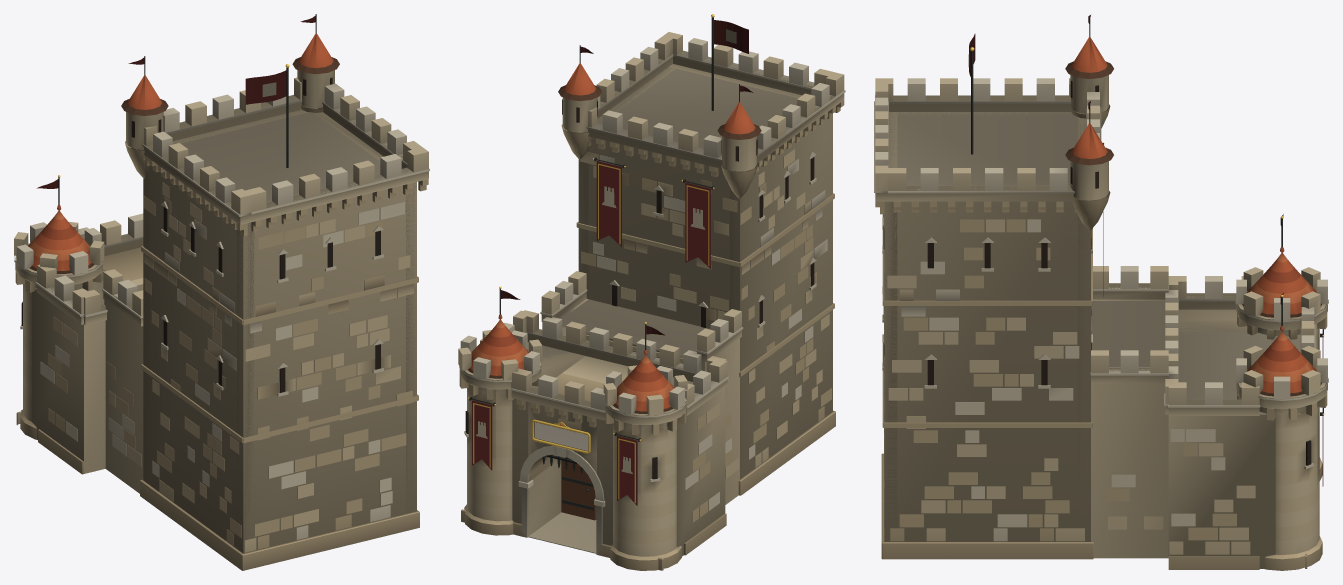
The model's file is pav_fort.glb.
The picture shows the model from 3 angles, left to right: view 1: azimuth 30°, elevation 25°; view 2: azimuth 150°, elevation 25°; view 3: azimuth 270°, elevation 25°; orthographic projection. The views are drawn at different scales.
Parts seen in each view (by area): view 1: static_keep, static_fort; view 2: static_keep, static_fort, live_fort_door_l; view 3: static_keep, static_fort.
Boxes of the visible parts, bbox=[...] form: static_keep: bbox=[121, 14, 429, 570]; static_fort: bbox=[14, 175, 143, 493]; static_keep: bbox=[558, 14, 845, 495]; static_fort: bbox=[458, 271, 743, 570]; live_fort_door_l: bbox=[561, 457, 596, 520]; static_keep: bbox=[874, 15, 1113, 559]; static_fort: bbox=[1090, 214, 1328, 570].
Size of the model in its own units: 10.82 by 19.97 by 17.61.
